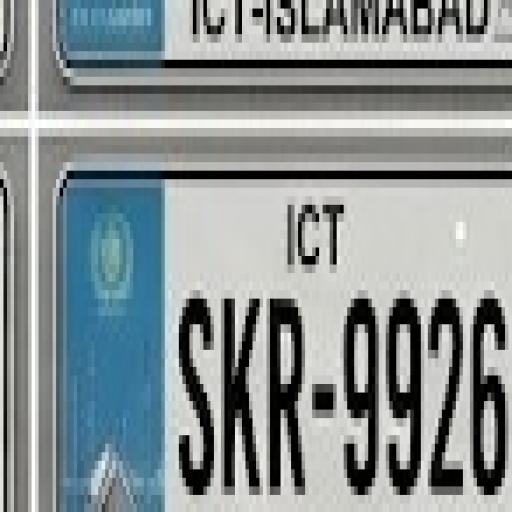2: (428, 292, 463, 506)
6: (470, 277, 507, 506)
9: (384, 291, 423, 509), (341, 297, 382, 496)
K: (220, 286, 263, 497)
R: (266, 284, 305, 502)
S: (174, 280, 215, 501)
